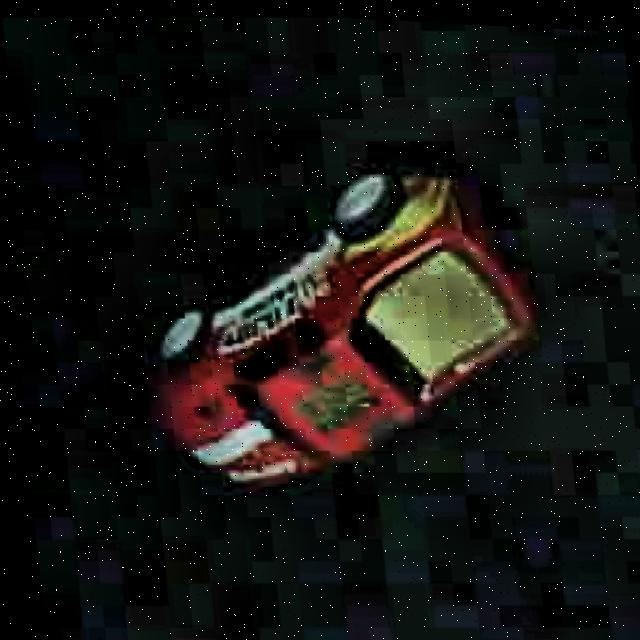car: (129, 142, 555, 512)
